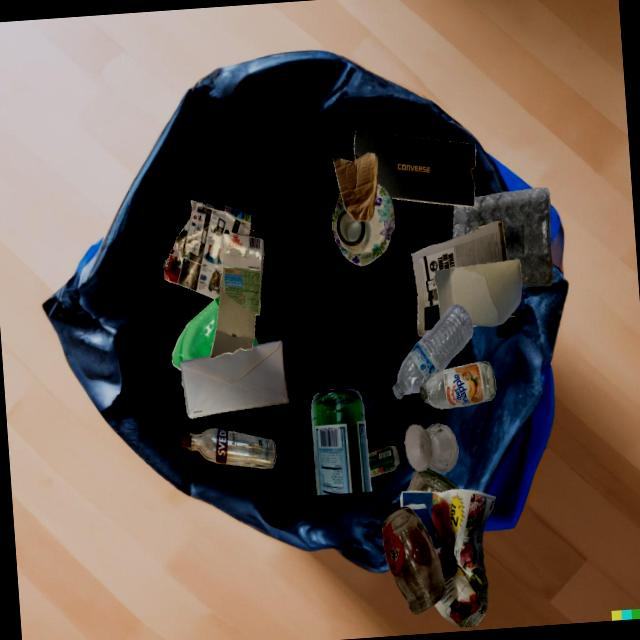cardboard: (353, 130, 475, 206), (210, 233, 263, 358), (433, 259, 521, 326), (332, 183, 395, 266), (332, 152, 377, 222)
glass: (382, 506, 446, 614), (311, 388, 371, 495), (181, 428, 276, 468), (419, 361, 495, 409), (404, 423, 458, 472), (194, 200, 257, 237), (335, 208, 372, 253), (407, 468, 458, 492)
paper: (400, 488, 496, 627), (411, 220, 507, 327), (163, 199, 251, 299), (179, 340, 288, 418)
plastic: (452, 187, 553, 286), (392, 303, 473, 398), (171, 338, 254, 384), (171, 294, 220, 361), (368, 446, 399, 477)
